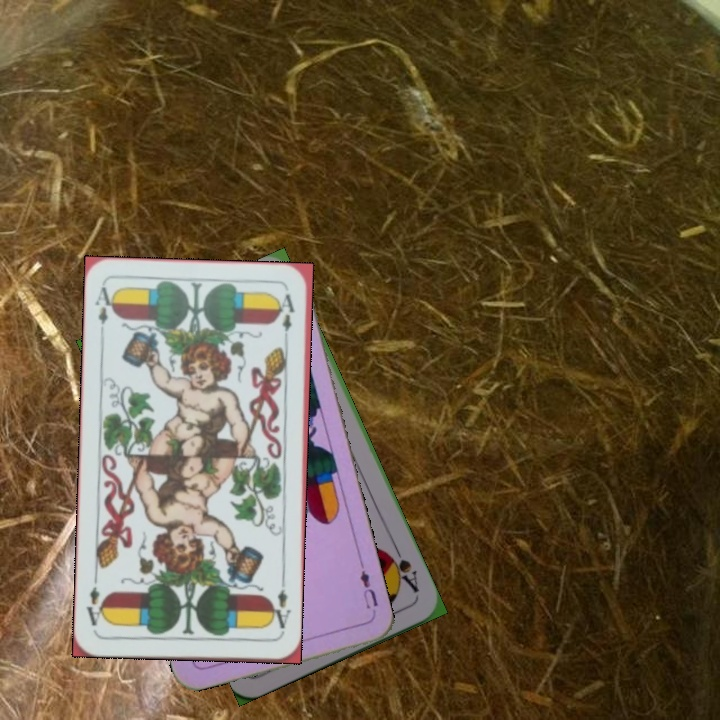EA: (266, 577, 294, 636), (91, 283, 118, 341)
EU: (355, 561, 381, 620)
SA: (382, 542, 422, 595)
